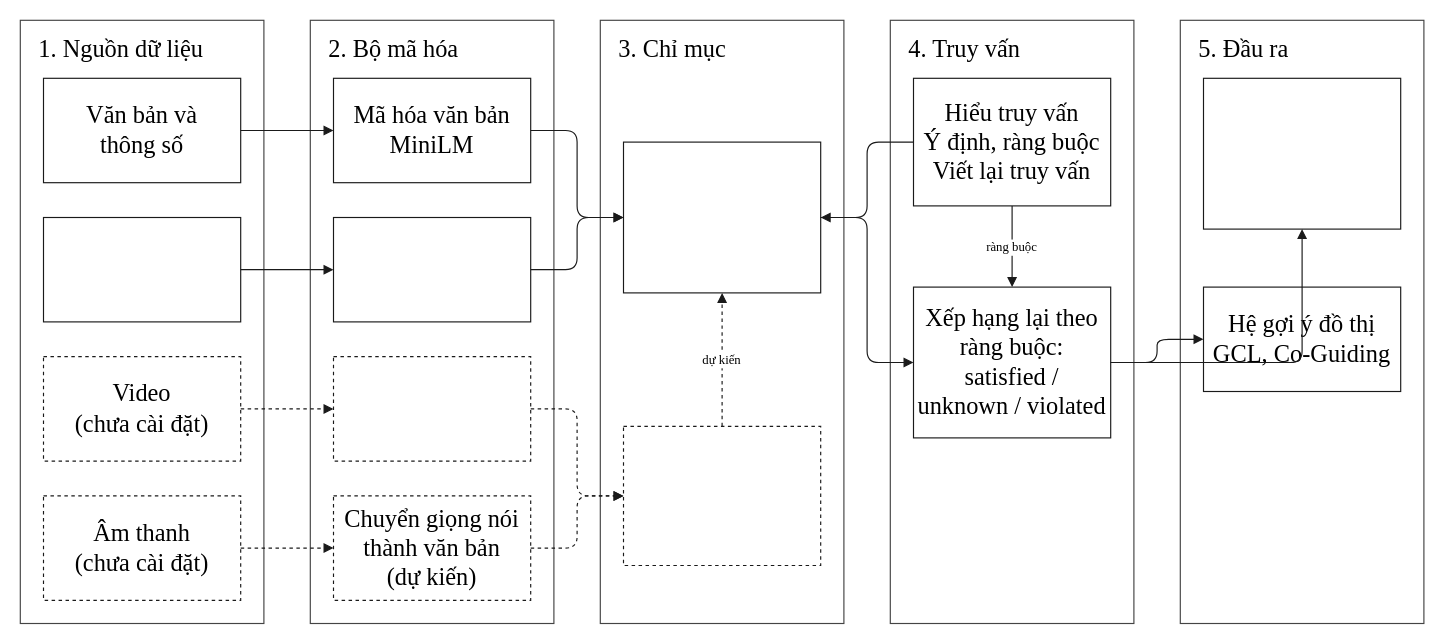
This 1444x644 diagram has some shape labels left out. Each missing label, with the centre of its shape:
"Bằng chứng video và âm thanh (dự kiến)" goes at [721,495].
"Chỉ mục lai đa phương thức BM25, vector và RRF" goes at [721,217].
"Câu trả lời có viện dẫn Từ chối khi thiếu bằng chứng" goes at [1301,153].
"Lấy khung hình, mã hóa CLIP (dự kiến)" goes at [431,408].
"Mã hóa ảnh CLIP ViT-B/32" goes at [431,269].
"Ảnh sản phẩm" goes at [141,269].
